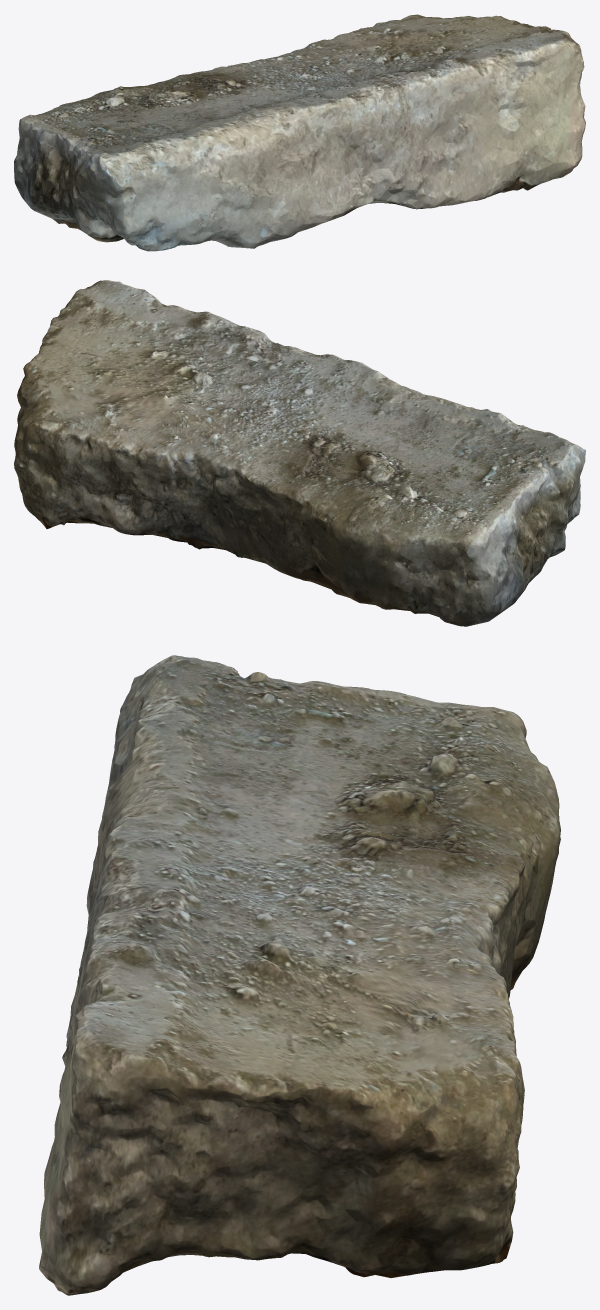
Rendered from FRAG-S1-FS-011.glb.
The picture shows the model from 3 angles, top to bottom: view 1: azimuth 30°, elevation 25°; view 2: azimuth 150°, elevation 25°; view 3: azimuth 270°, elevation 25°; orthographic projection. The views are drawn at different scales.
Visible parts, largest first — view 1: FRAG-S1-FS-011; view 2: FRAG-S1-FS-011; view 3: FRAG-S1-FS-011.
Boxes of the visible parts, left/top/right/bottom form: FRAG-S1-FS-011: left=14, top=14, right=585, bottom=251; FRAG-S1-FS-011: left=14, top=280, right=585, bottom=626; FRAG-S1-FS-011: left=39, top=655, right=560, bottom=1295.
Bounding box in the file's own units: 1.64 × 0.4518 × 0.7775.
Materials: 1 (1 with a texture image).
